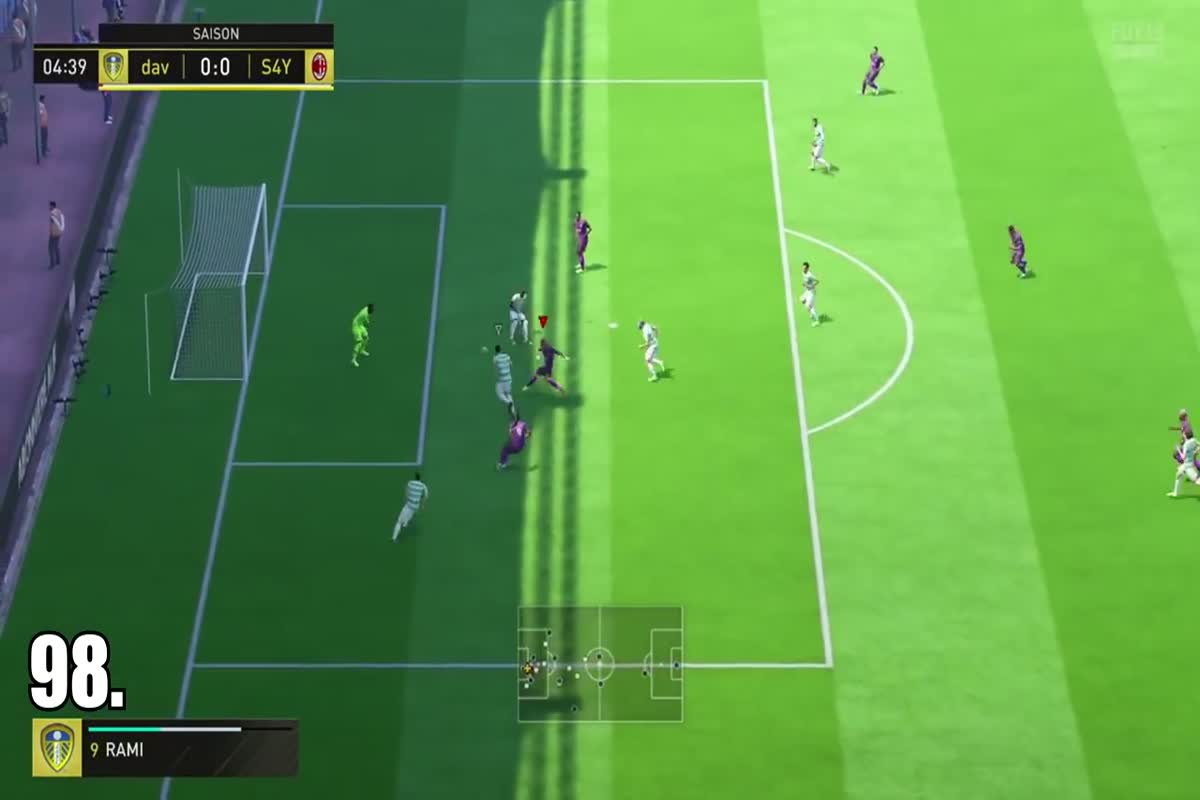ball: (472, 339, 493, 357)
